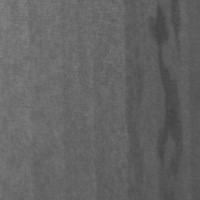inclusion: (148, 1, 191, 181), (120, 1, 149, 199)
